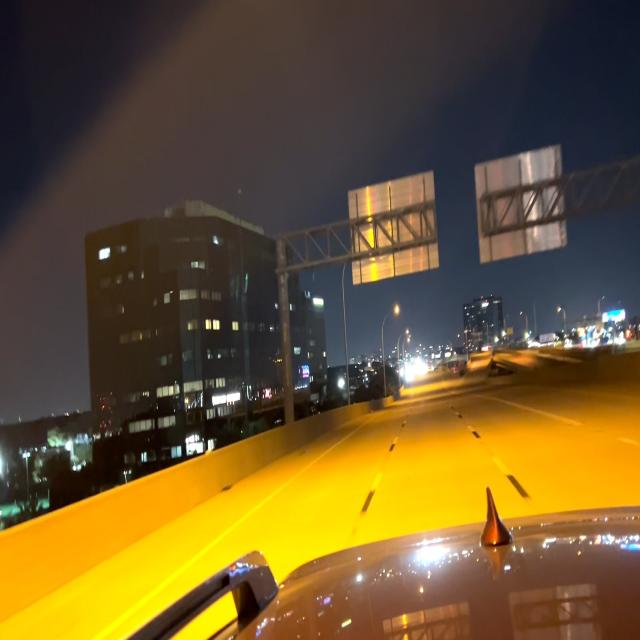back-of-sign: (477, 143, 568, 267), (348, 170, 441, 289)
